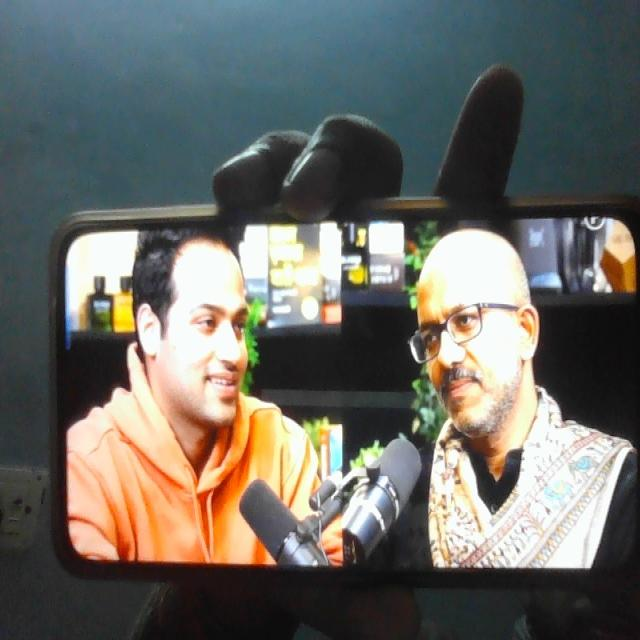fake: (409, 193, 545, 451), (127, 180, 263, 437)
